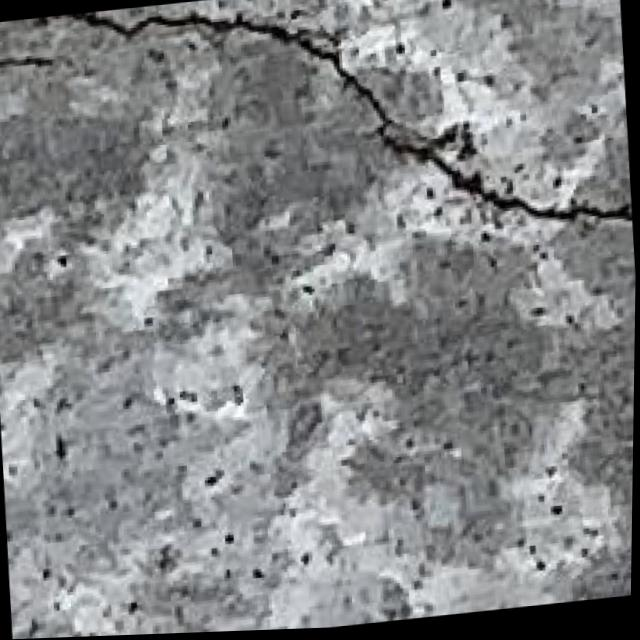Crack: (0, 0, 638, 328)
